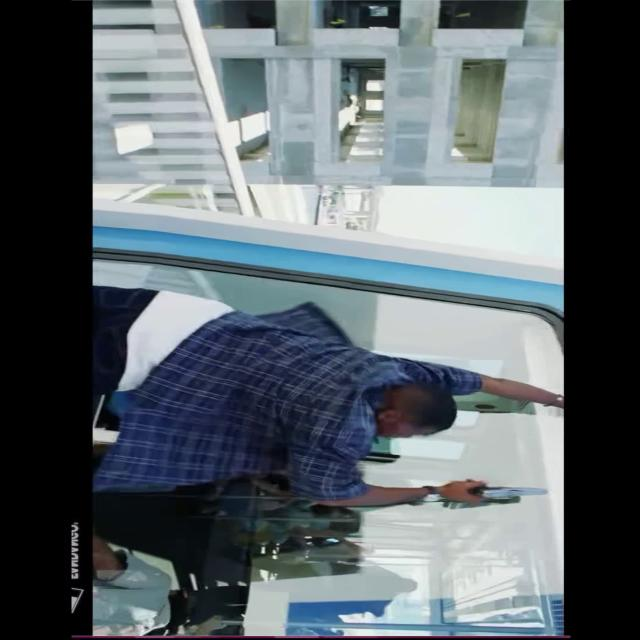weapons: (428, 472, 566, 502)
